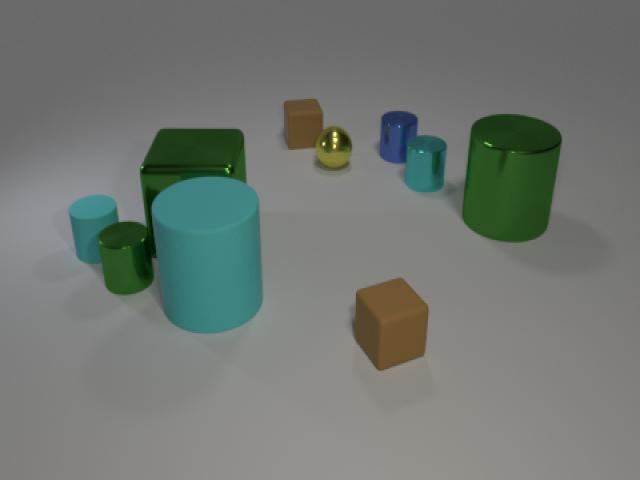cylinder: (149, 177, 265, 336), (460, 114, 564, 242), (96, 222, 156, 297), (67, 195, 121, 272), (401, 134, 448, 196), (377, 111, 421, 168)
